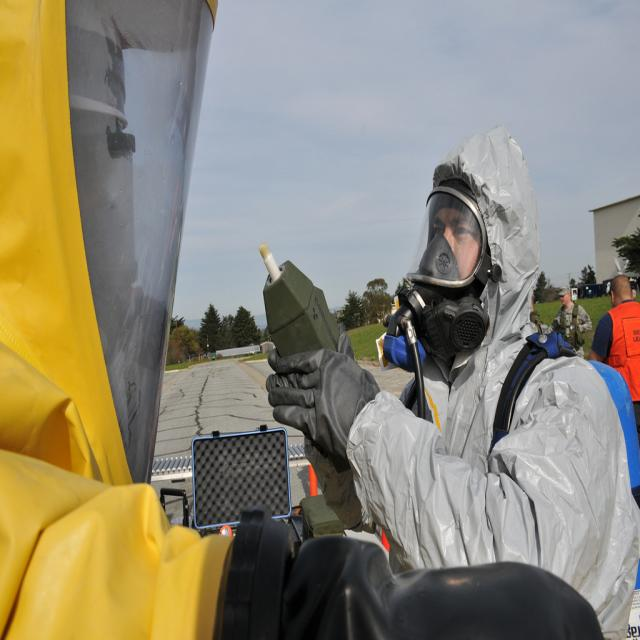no_fire: (3, 4, 555, 640)
